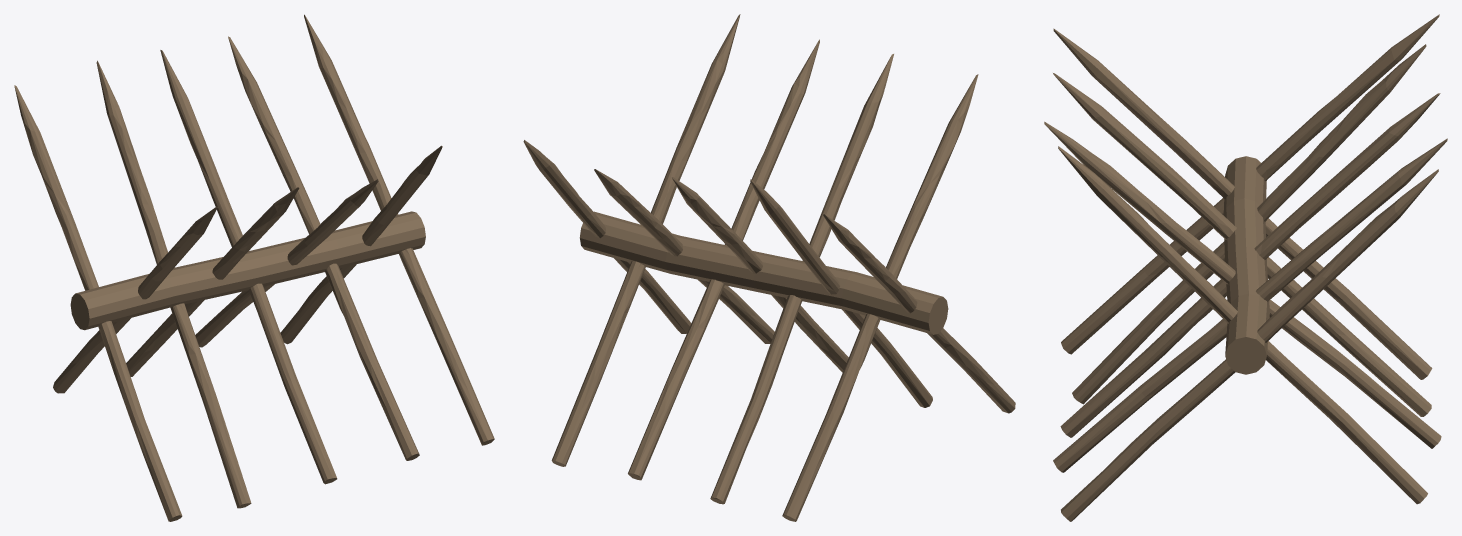
The model's file is siege_spike_a.FBX.
3 views of the same model, side by side, from view 1: azimuth 30°, elevation 25°; view 2: azimuth 150°, elevation 25°; view 3: azimuth 270°, elevation 25° (orthographic). The views are drawn at different scales.
Visible parts, largest first — view 1: siege_spike_a; view 2: siege_spike_a; view 3: siege_spike_a.
Part boxes in pixels (<box>): siege_spike_a: <box>14,14,494,521</box>; siege_spike_a: <box>523,14,1015,521</box>; siege_spike_a: <box>1044,14,1447,521</box>.
Bounding box in the file's own units: 1.7 × 1.6 × 1.6.
